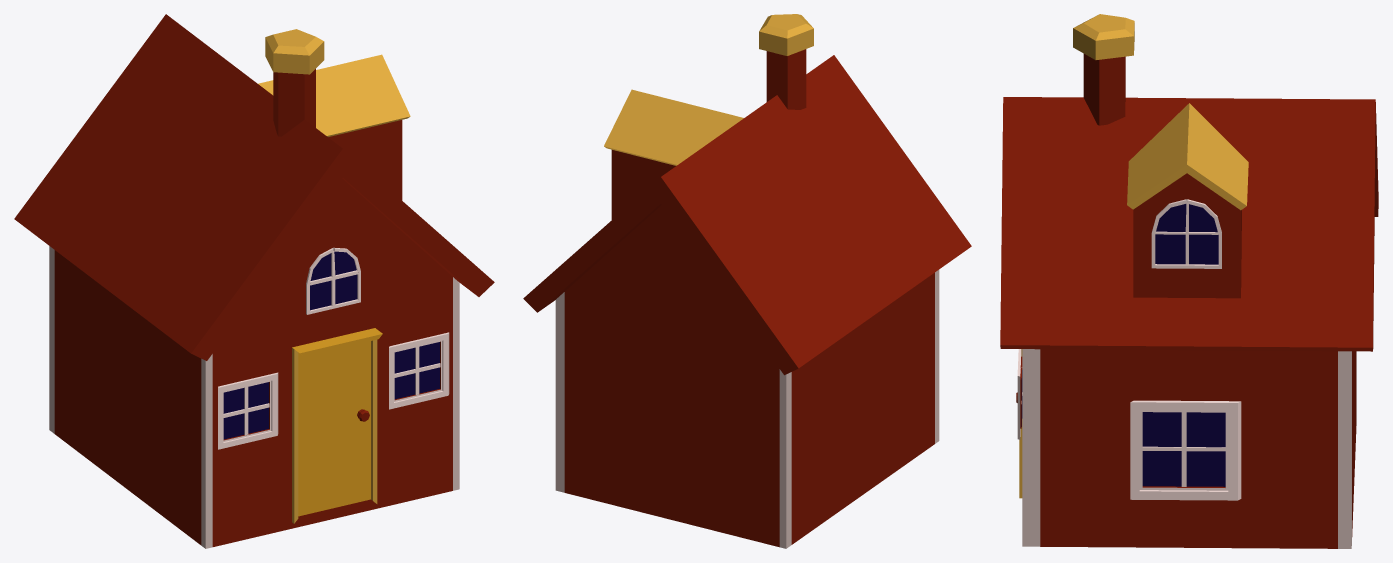
Rendered from small4.glb.
3 views of the same model, side by side, from view 1: azimuth 30°, elevation 25°; view 2: azimuth 150°, elevation 25°; view 3: azimuth 270°, elevation 25° (orthographic). The views are drawn at different scales.
Visible parts, largest first — view 1: Residential 8.001; view 2: Residential 8.001; view 3: Residential 8.001.
Boxes of the visible parts, left/top/right/bottom form: Residential 8.001: left=14, top=14, right=494, bottom=548; Residential 8.001: left=523, top=14, right=971, bottom=548; Residential 8.001: left=1000, top=14, right=1378, bottom=548.
Bounding box in the file's own units: 4.94 × 6.95 × 5.17.
1 material, 1 textured.
